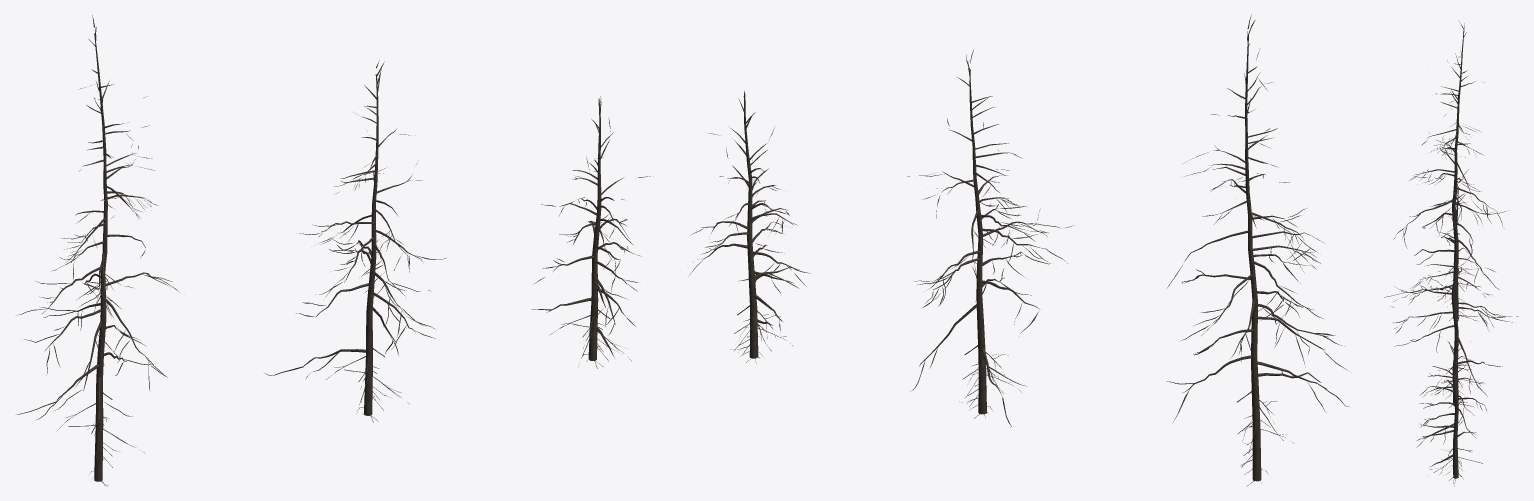
File: pine_sapling_medium_wood.glb
The picture shows the model from 3 angles, left to right: view 1: azimuth 30°, elevation 25°; view 2: azimuth 150°, elevation 25°; view 3: azimuth 270°, elevation 25°; orthographic projection. The views are drawn at different scales.
Parts seen in each view (by area): view 1: pine_sapling_medium_a_LOD0, pine_sapling_medium_b_LOD0, pine_sapling_medium_c_LOD0; view 2: pine_sapling_medium_a_LOD0, pine_sapling_medium_b_LOD0, pine_sapling_medium_c_LOD0; view 3: pine_sapling_medium_a_LOD0, pine_sapling_medium_b_LOD0, pine_sapling_medium_c_LOD0.
Part boxes in pixels (left/top/right/bottom): pine_sapling_medium_a_LOD0: left=16, top=15, right=179, bottom=486; pine_sapling_medium_b_LOD0: left=265, top=60, right=446, bottom=422; pine_sapling_medium_c_LOD0: left=531, top=96, right=650, bottom=368; pine_sapling_medium_a_LOD0: left=1166, top=14, right=1349, bottom=486; pine_sapling_medium_b_LOD0: left=907, top=50, right=1073, bottom=427; pine_sapling_medium_c_LOD0: left=688, top=91, right=809, bottom=363; pine_sapling_medium_a_LOD0: left=1394, top=20, right=1508, bottom=320; pine_sapling_medium_b_LOD0: left=1384, top=179, right=1518, bottom=408; pine_sapling_medium_c_LOD0: left=1416, top=309, right=1486, bottom=486.
Bounding box in the file's own units: 14.13 × 10.03 × 4.01.
2 materials, 2 textured.
